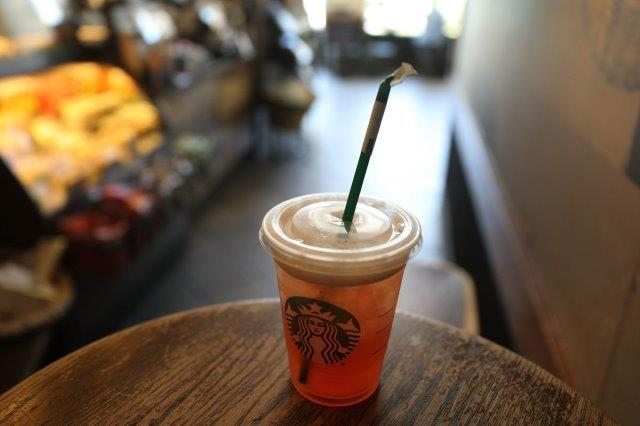sedotan: (303, 65, 412, 384)
